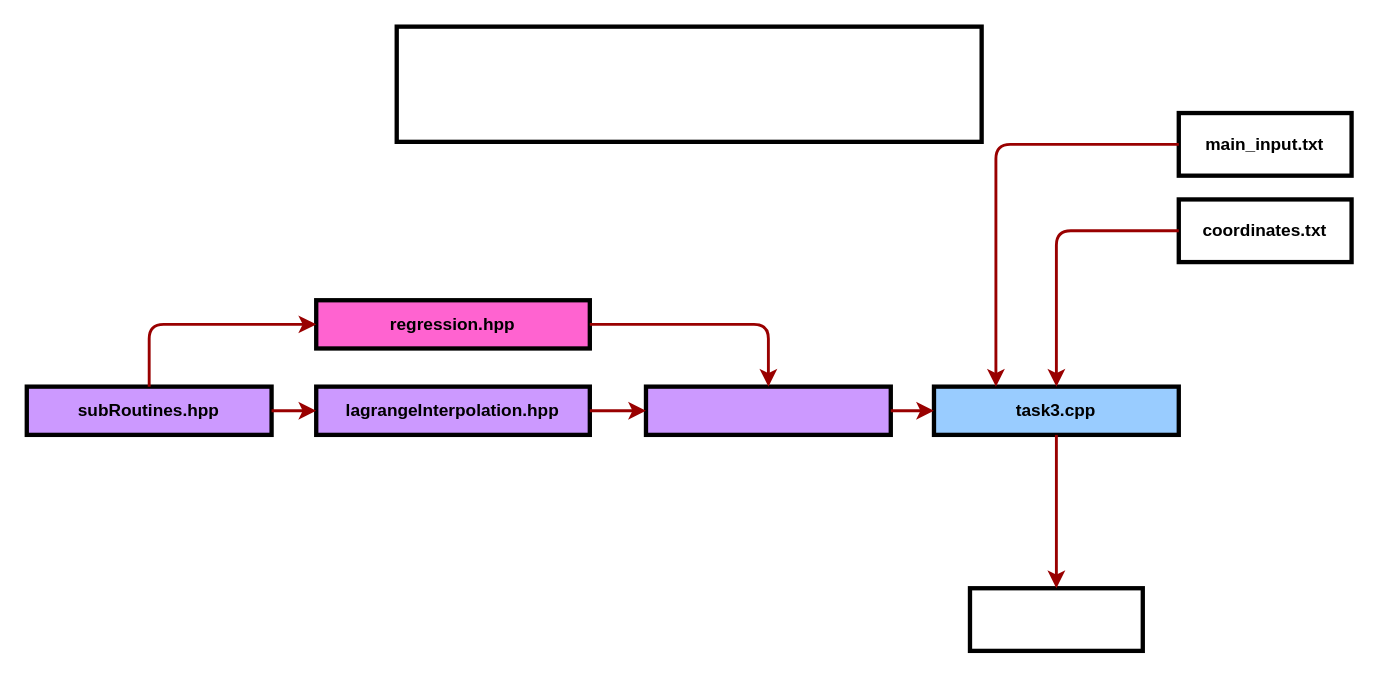
This 1378x678 diagram has some shape labels left out. The shapes that lost their labels are listed below. From the top down, each one's centre as x and y in pixels, then its label:
At pixel 688 83: "Arquitetura Task3".
At pixel 767 410: "routines.hpp".
At pixel 1055 618: "main_output.txt".
